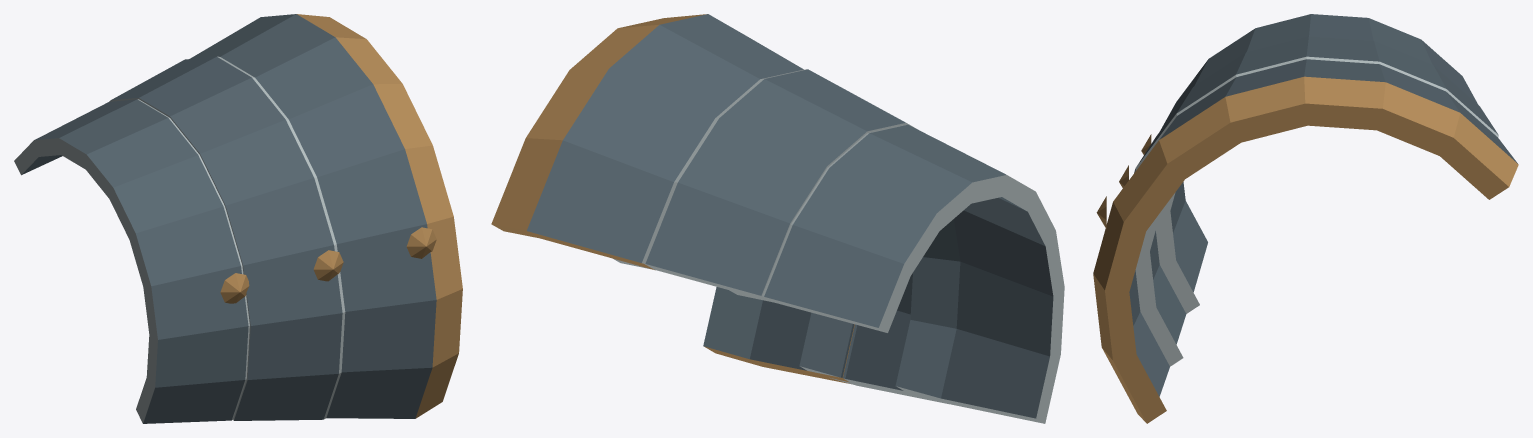
File: ranger_shoulder_r.glb
3 renders of one model, left to right at view 1: azimuth 30°, elevation 25°; view 2: azimuth 150°, elevation 25°; view 3: azimuth 270°, elevation 25°, orthographic. The views are drawn at different scales.
Parts seen in each view (by area): view 1: ranger_shoulder_r; view 2: ranger_shoulder_r; view 3: ranger_shoulder_r.
Boxes of the visible parts, x1,y1,x2,y2 form: ranger_shoulder_r: [14, 14, 462, 423]; ranger_shoulder_r: [491, 14, 1064, 423]; ranger_shoulder_r: [1093, 14, 1518, 423].
Bounding box in the file's own units: 0.165 × 0.1837 × 0.2101.
